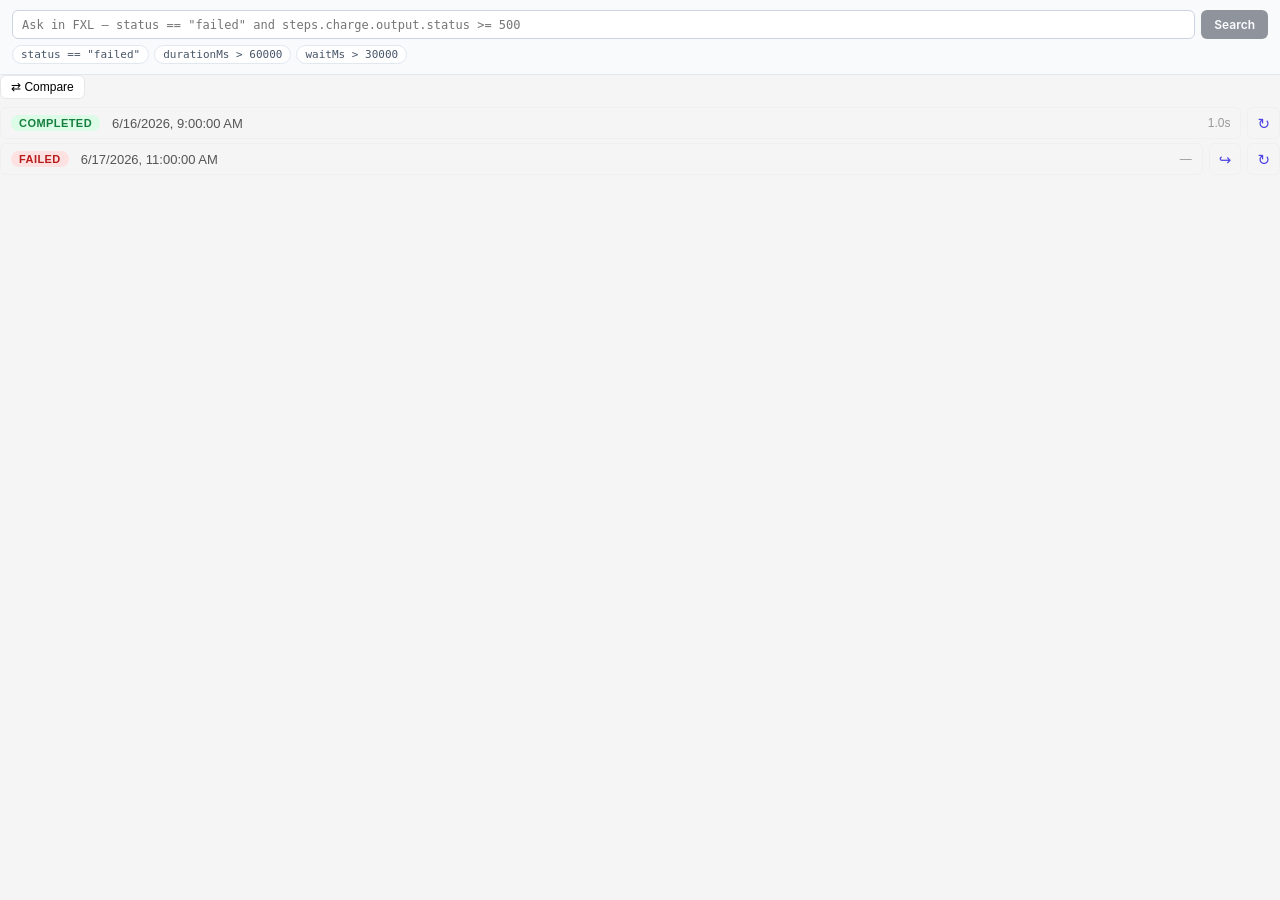
ExecutionHistory replay › replays on confirm: posts to the replay endpoint and refreshes the list
This screenshot has width=1280, height=900.
Expected: the text "completed" is shown, x1=11 y1=115 x2=100 y2=131
Click the button named "Replay this run" at (1264, 123), box x1=1247 y1=107 x2=1279 y2=139
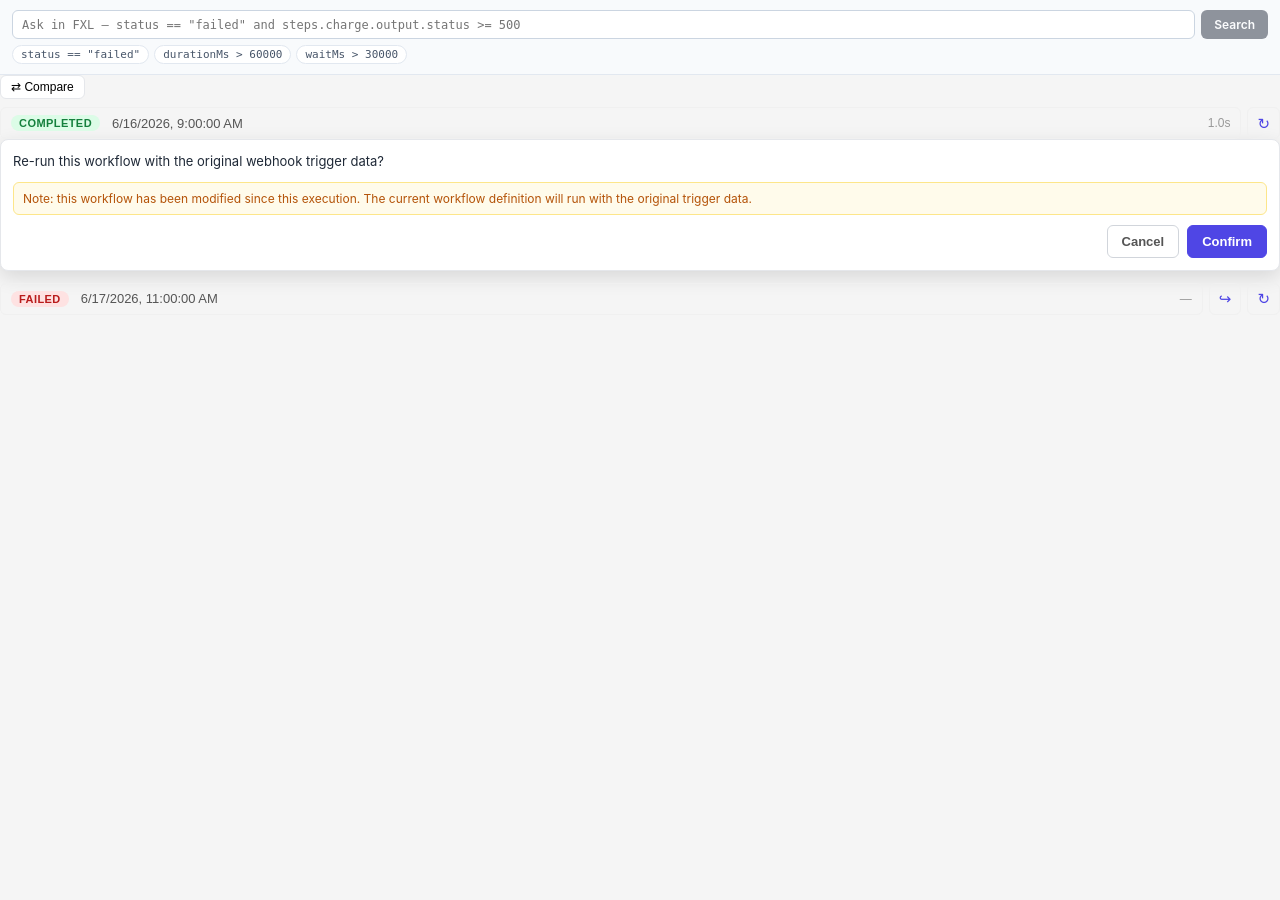
Click the button "Confirm" at (1227, 241), box x1=1187 y1=225 x2=1267 y2=258
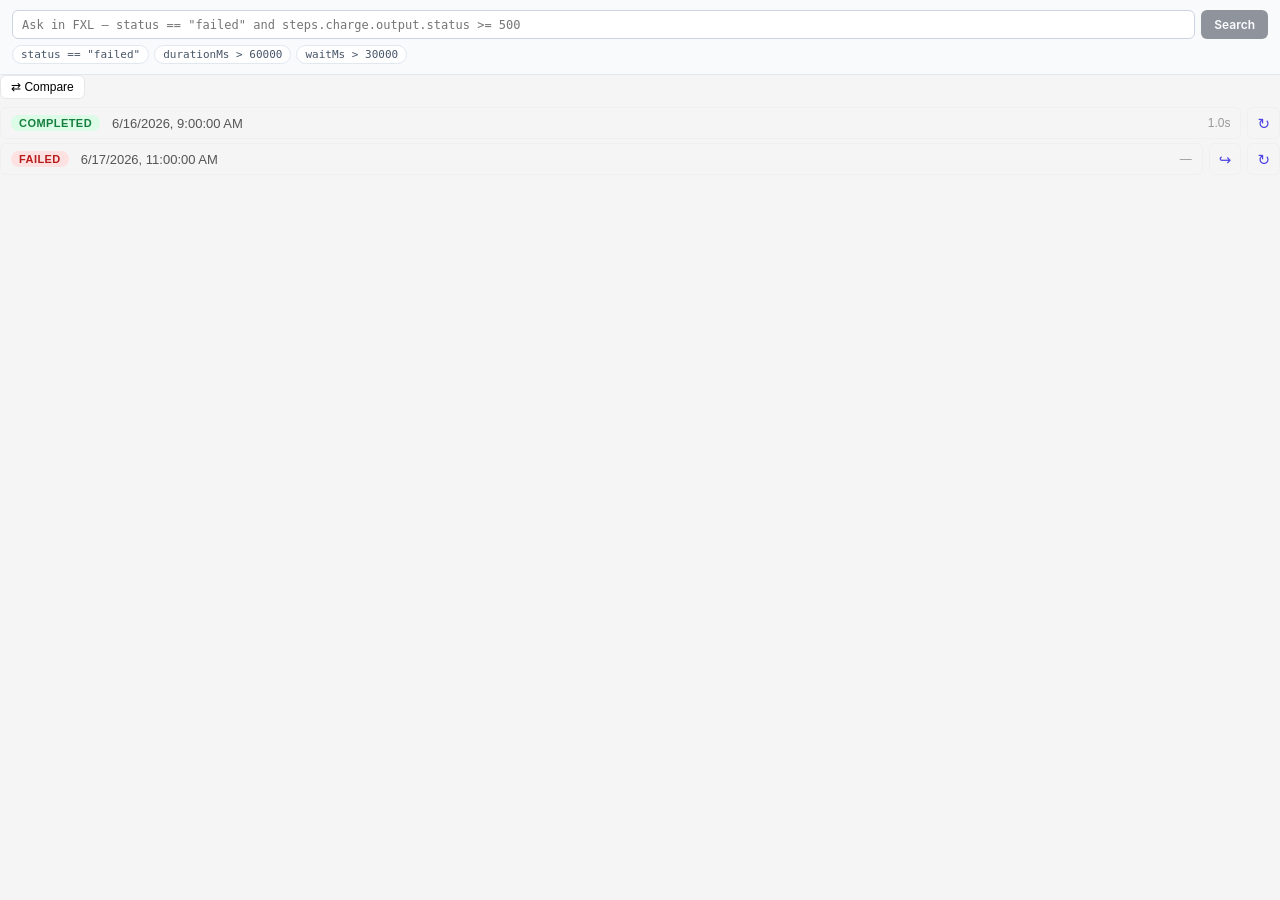
Now the dialog is gone
